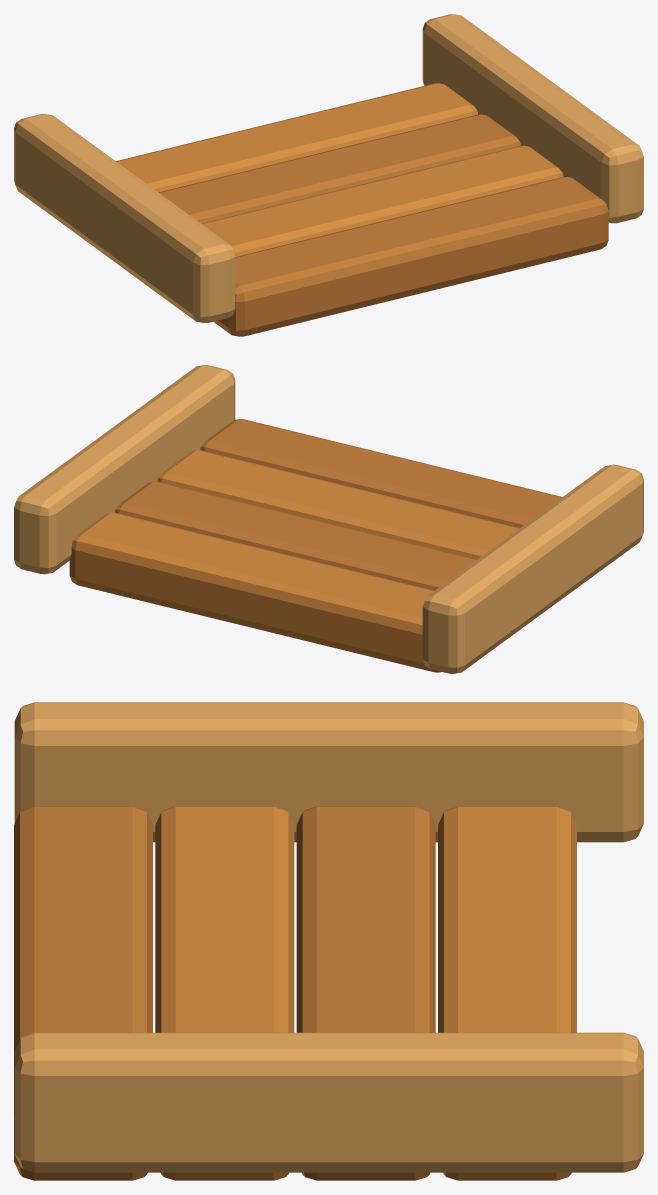
The model's file is Tray_Side_Intake.fbx.
The picture shows the model from 3 angles, top to bottom: view 1: azimuth 30°, elevation 25°; view 2: azimuth 150°, elevation 25°; view 3: azimuth 270°, elevation 25°; orthographic projection. The views are drawn at different scales.
Visible parts, largest first — view 1: Body; view 2: Body; view 3: Body.
Boxes of the visible parts, x1,y1,x2,y2 form: Body: (14, 14, 643, 336); Body: (14, 365, 643, 673); Body: (14, 702, 643, 1180).
Bounding box in the file's own units: 0.724 × 0.148 × 0.5305.
